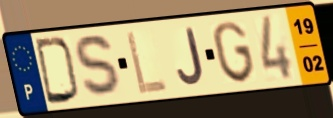4: (258, 13, 296, 83)
D: (33, 36, 82, 106)
G: (211, 19, 258, 86)
J: (175, 26, 206, 87)
L: (123, 28, 170, 97)
S: (73, 33, 127, 101)
